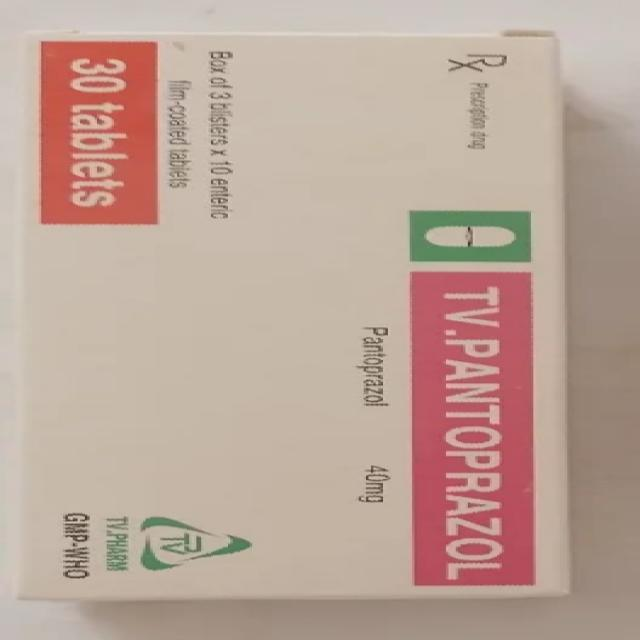drug-name: (444, 284, 503, 580)
